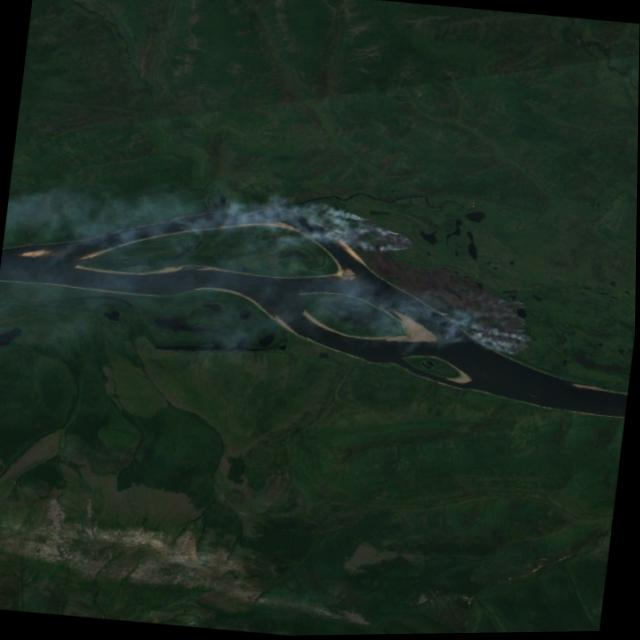fire: (317, 205, 549, 370)
